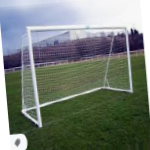goals: (20, 23, 133, 125)
